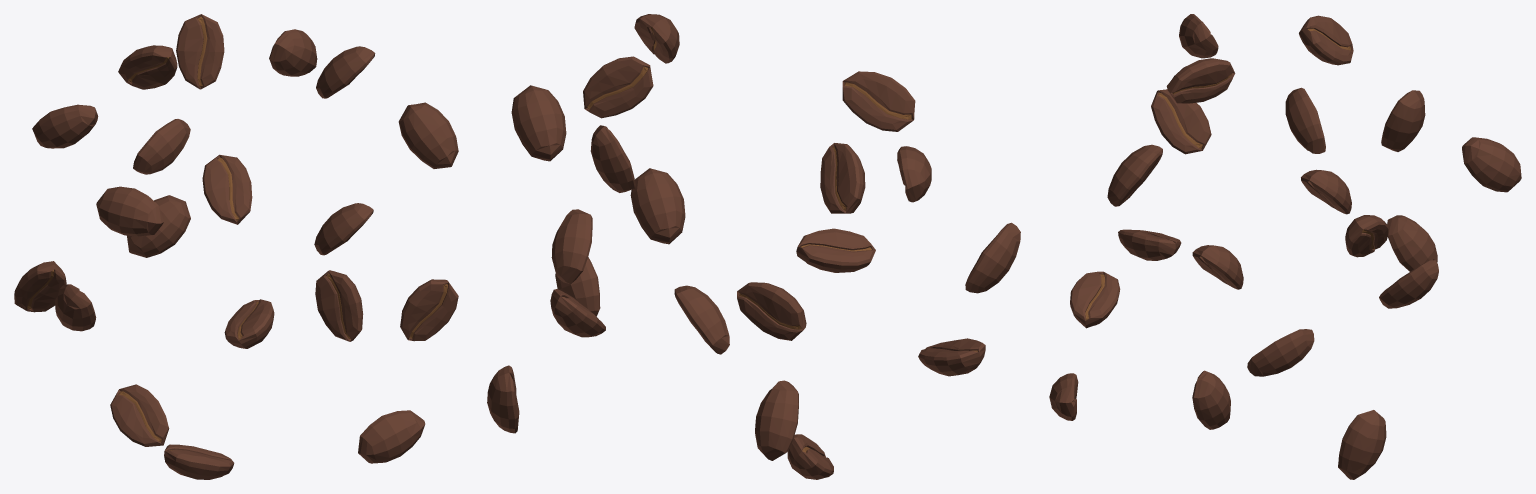
File: beans.glb
3 views of the same model, side by side, from view 1: azimuth 30°, elevation 25°; view 2: azimuth 150°, elevation 25°; view 3: azimuth 270°, elevation 25° (orthographic). The views are drawn at different scales.
Parts seen in each view (by area): view 1: node-0.017, node-0.012, node-0.003, node-0.002, node-0.007, node-0.010, node-0.001, node-0.004, node-0.011, node-0.019, node-0.015, node-0.005 (+7 smaller); view 2: node-0.018, node-0.013, node-0.016, node-0.009, node-0.004, node-0.014, node-0.005, node-0.011, node-0.019, node-0.006, node-0.015, node-0.017 (+7 smaller); view 3: node-0.006, node-0.001, node-0.019, node-0.010, node-0.008, node-0.011, node-0.002, node-0.005, node-0.017, node-0.012, node-0.013, node-0.007 (+7 smaller).
Boxes of the visible parts, <box> form: node-0.017: <box>176,14,224,89</box>; node-0.012: <box>398,102,458,168</box>; node-0.003: <box>202,154,252,224</box>; node-0.002: <box>110,384,169,446</box>; node-0.007: <box>400,279,458,341</box>; node-0.010: <box>96,186,163,236</box>; node-0.001: <box>315,270,363,341</box>; node-0.004: <box>358,410,425,463</box>; node-0.011: <box>32,104,98,148</box>; node-0.019: <box>118,45,177,89</box>; node-0.015: <box>127,195,190,257</box>; node-0.005: <box>14,261,66,312</box>; node-0.018: <box>842,71,915,131</box>; node-0.013: <box>583,56,653,118</box>; node-0.016: <box>511,85,566,161</box>; node-0.009: <box>630,168,685,244</box>; node-0.004: <box>737,282,806,340</box>; node-0.014: <box>796,228,875,272</box>; node-0.005: <box>755,380,798,460</box>; node-0.011: <box>820,143,865,213</box>; node-0.019: <box>551,209,592,283</box>; node-0.006: <box>965,222,1020,293</box>; node-0.015: <box>674,285,729,354</box>; node-0.017: <box>590,125,635,192</box>; node-0.006: <box>1151,89,1211,154</box>; node-0.001: <box>1338,410,1386,479</box>; node-0.019: <box>1462,137,1521,192</box>; node-0.010: <box>1166,58,1235,103</box>; node-0.008: <box>1070,271,1120,328</box>; node-0.011: <box>1299,15,1353,65</box>; node-0.002: <box>1247,329,1314,376</box>; node-0.005: <box>1387,215,1437,271</box>; node-0.017: <box>1381,90,1425,151</box>; node-0.012: <box>1107,144,1162,206</box>; node-0.013: <box>1285,87,1325,153</box>; node-0.007: <box>1192,370,1230,429</box>.
Bounding box in the file's own units: 2.09 × 1.77 × 2.1.
